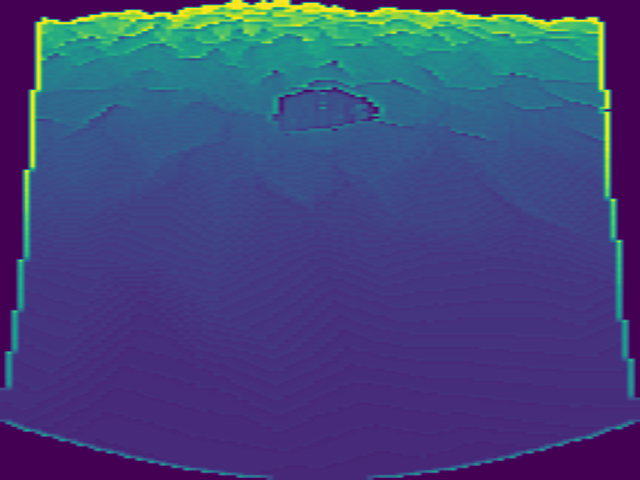car_0198: (274, 88, 381, 128)
